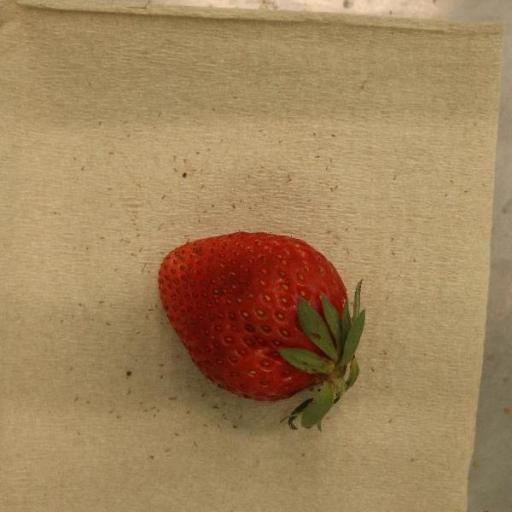Strawberry: (159, 231, 367, 430)
